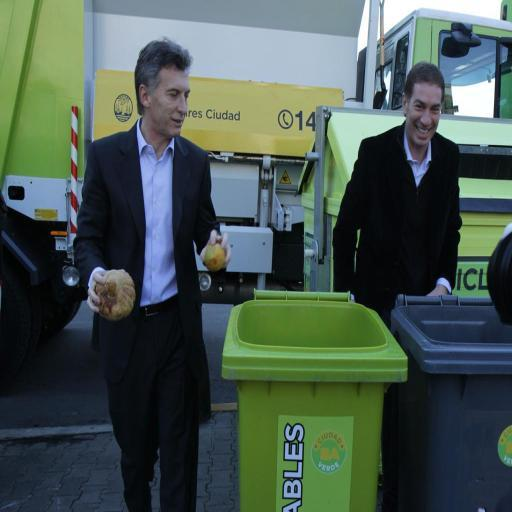trash-can: (212, 289, 412, 512)
